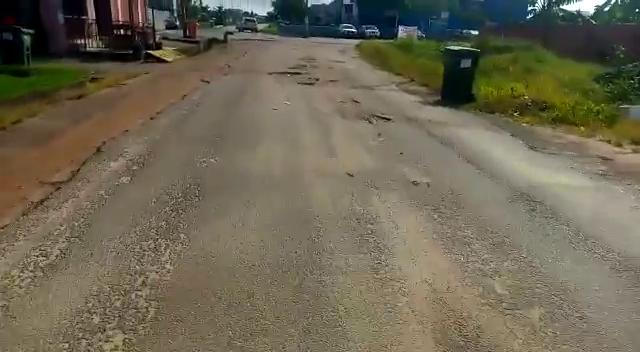pothole: (365, 113, 392, 125), (269, 70, 305, 78)
